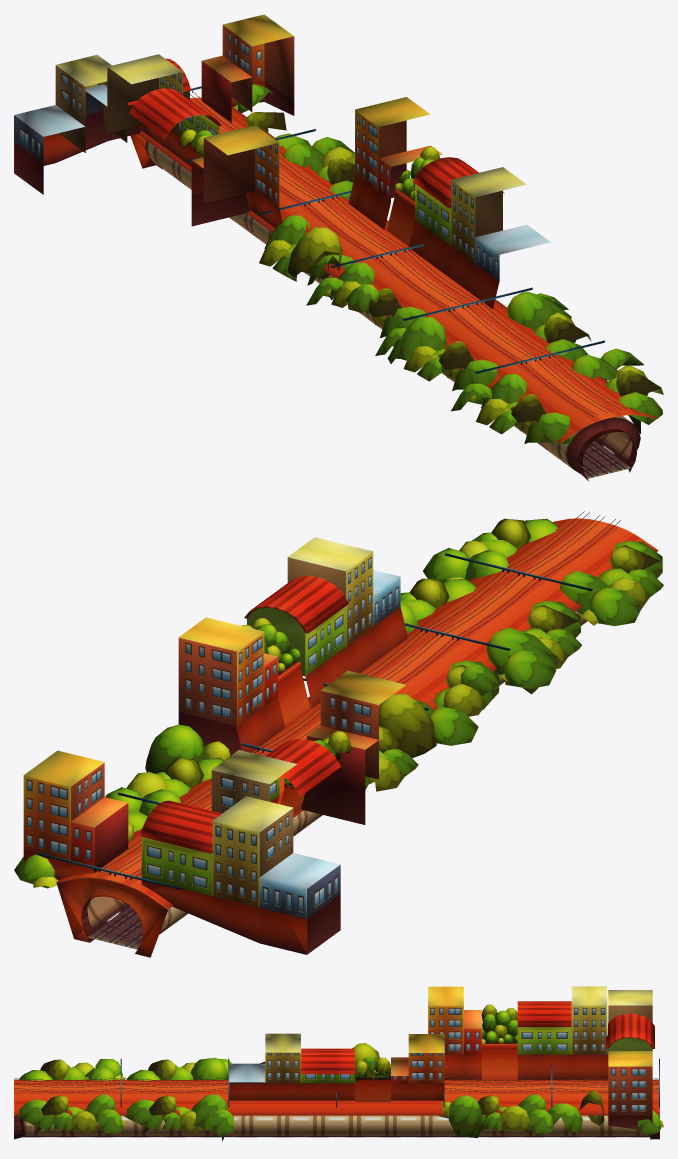
Rendered from subway_3.fbx.
3 renders of one model, top to bottom at view 1: azimuth 30°, elevation 25°; view 2: azimuth 150°, elevation 25°; view 3: azimuth 270°, elevation 25°, orthographic. The views are drawn at different scales.
Parts seen in each view (by area): view 1: subway_3.obj; view 2: subway_3.obj; view 3: subway_3.obj.
Part boxes in pixels (x1,y1,x2,y2): subway_3.obj: (14, 14, 663, 481); subway_3.obj: (14, 511, 663, 957); subway_3.obj: (14, 986, 663, 1140).
Bounding box in the file's own units: 38419 × 20451 × 108674.
1 material, 1 textured.
